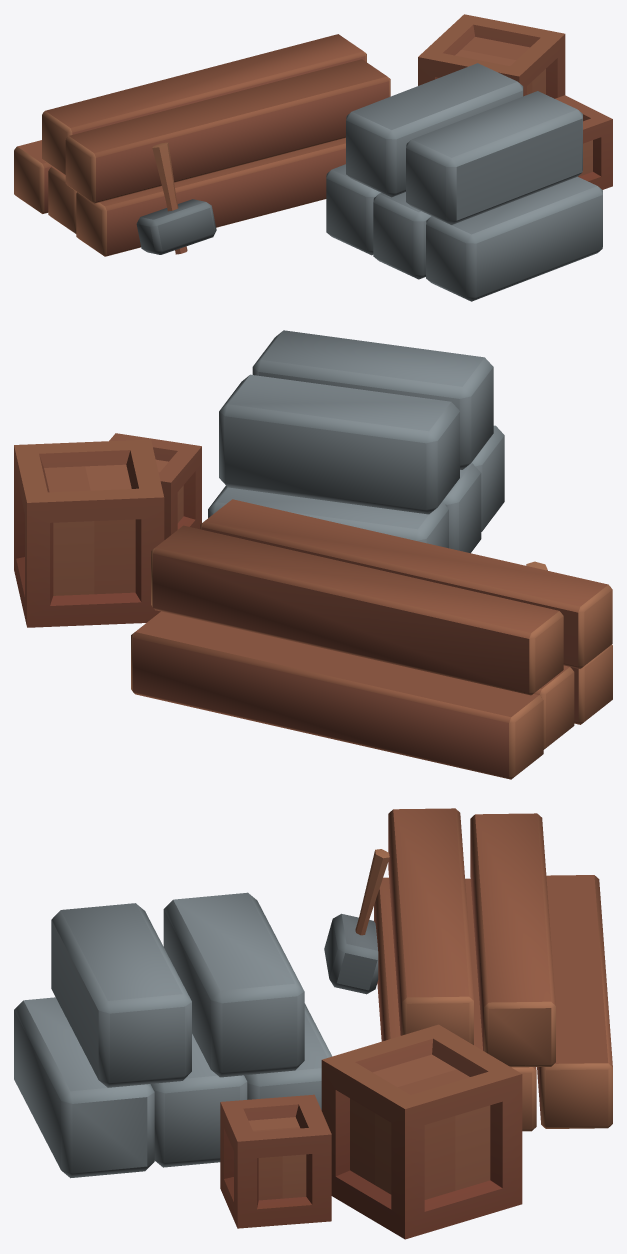
File: H_stage_A.glb
The picture shows the model from 3 angles, top to bottom: view 1: azimuth 30°, elevation 25°; view 2: azimuth 150°, elevation 25°; view 3: azimuth 270°, elevation 25°; orthographic projection. The views are drawn at different scales.
Parts seen in each view (by area): view 1: building_stage_A; view 2: building_stage_A; view 3: building_stage_A.
Boxes of the visible parts, x1,y1,x2,y2 form: building_stage_A: (14,14,612,301); building_stage_A: (14,330,612,779); building_stage_A: (14,808,612,1239).
Bounding box in the file's own units: 1.05 × 0.2859 × 0.875.
